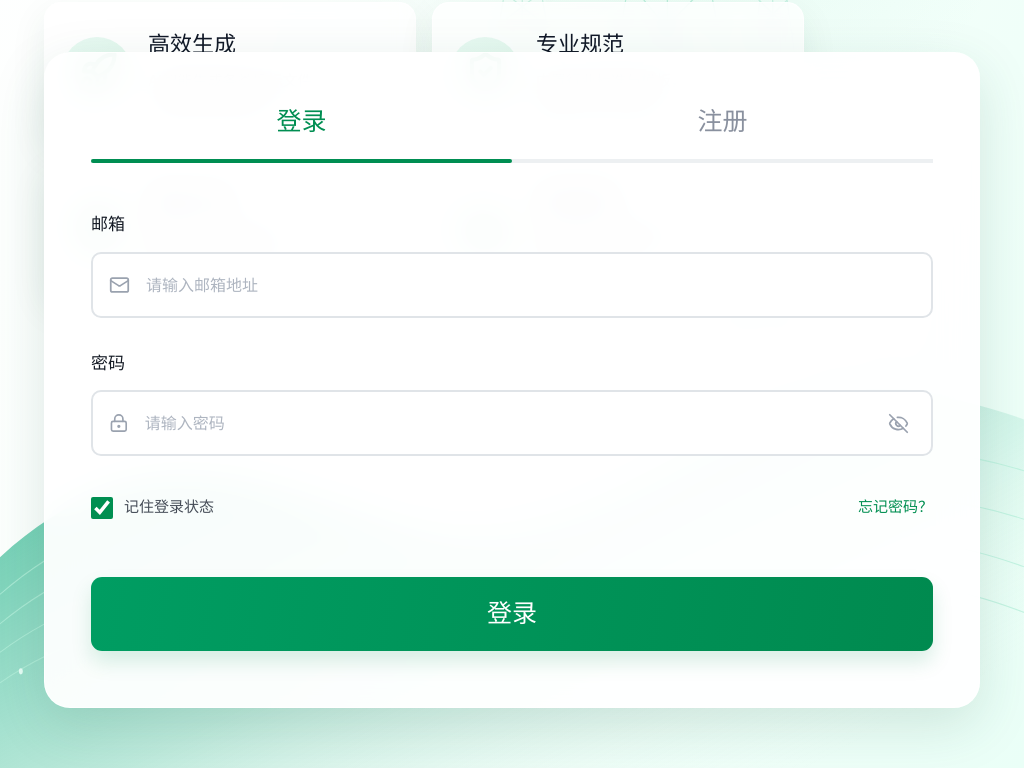
Test case: LoginPage › explains the missing password-reset API instead of leaving a no-op control
(page scrolled)
Click the button "忘记密码？".
click(896, 508)  # box [858, 492, 933, 523]
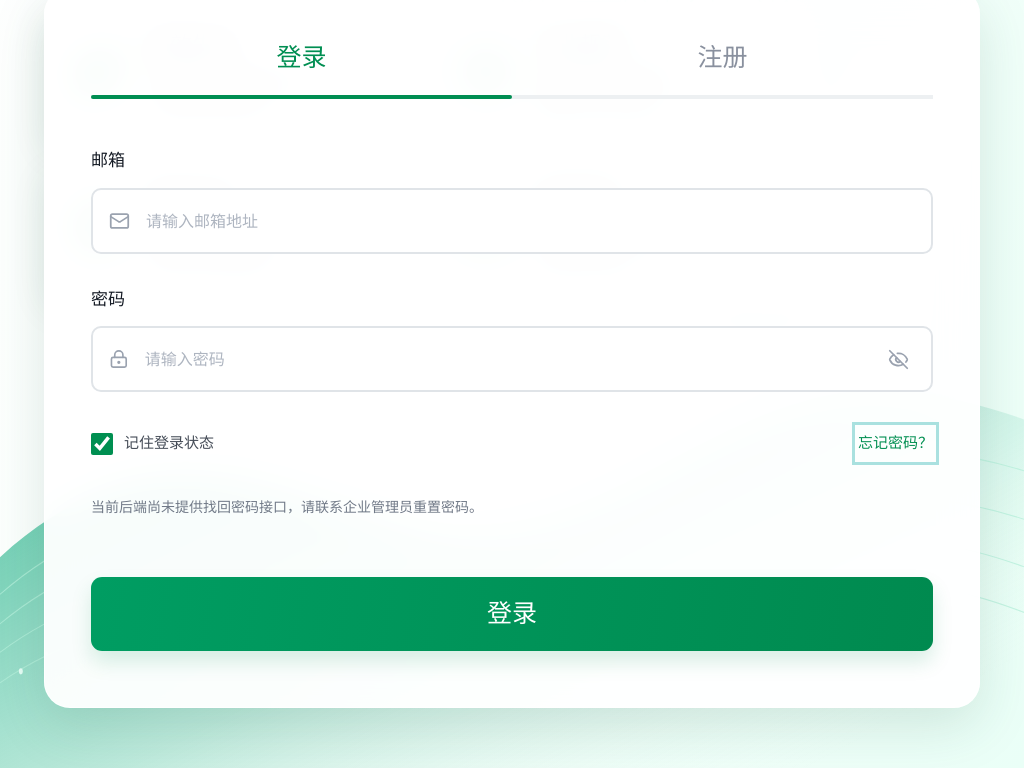
Now the message reads "当前后端尚未提供找回密码接口，请联系企业管理员重置密码。", box [91, 498, 483, 515]
